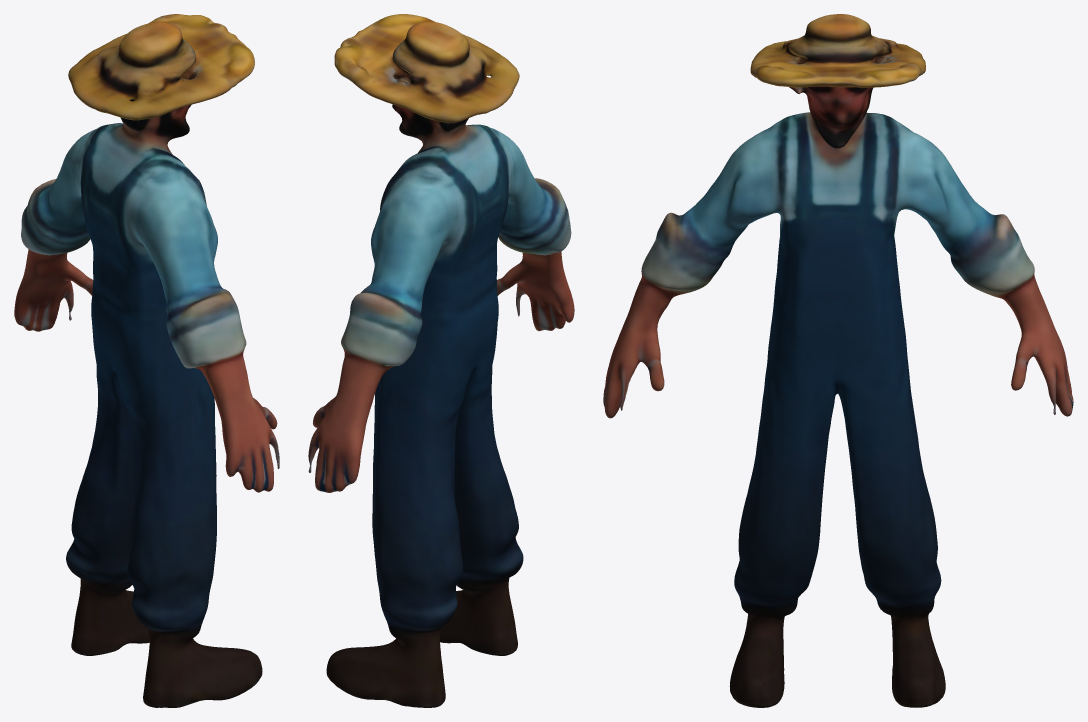
The model's file is Villager1.glb.
3 views of the same model, side by side, from view 1: azimuth 30°, elevation 25°; view 2: azimuth 150°, elevation 25°; view 3: azimuth 270°, elevation 25° (orthographic). The views are drawn at different scales.
Visible parts, largest first — view 1: high_poly; view 2: high_poly; view 3: high_poly.
Part boxes in pixels (<box>): high_poly: <box>14,14,279,707</box>; high_poly: <box>308,14,574,707</box>; high_poly: <box>603,14,1073,707</box>.
Bounding box in the file's own units: 0.2464 × 1 × 0.6408.
Materials: 1 (1 with a texture image).
